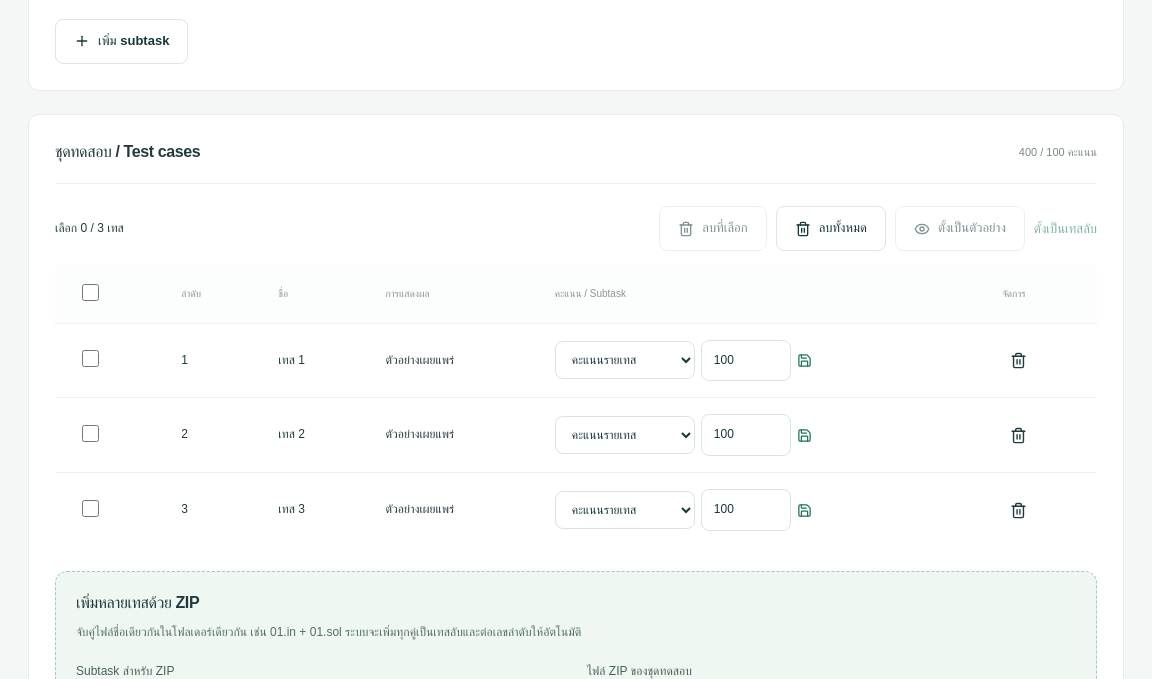
Test: restores the saved subtask and shows errors when autosaving fails
(page scrolled)
Select "กลุ่มหนึ่ง" in the dropdown named "Subtask ของ เทส 1": (625,360) left=555, top=341, right=695, bottom=379
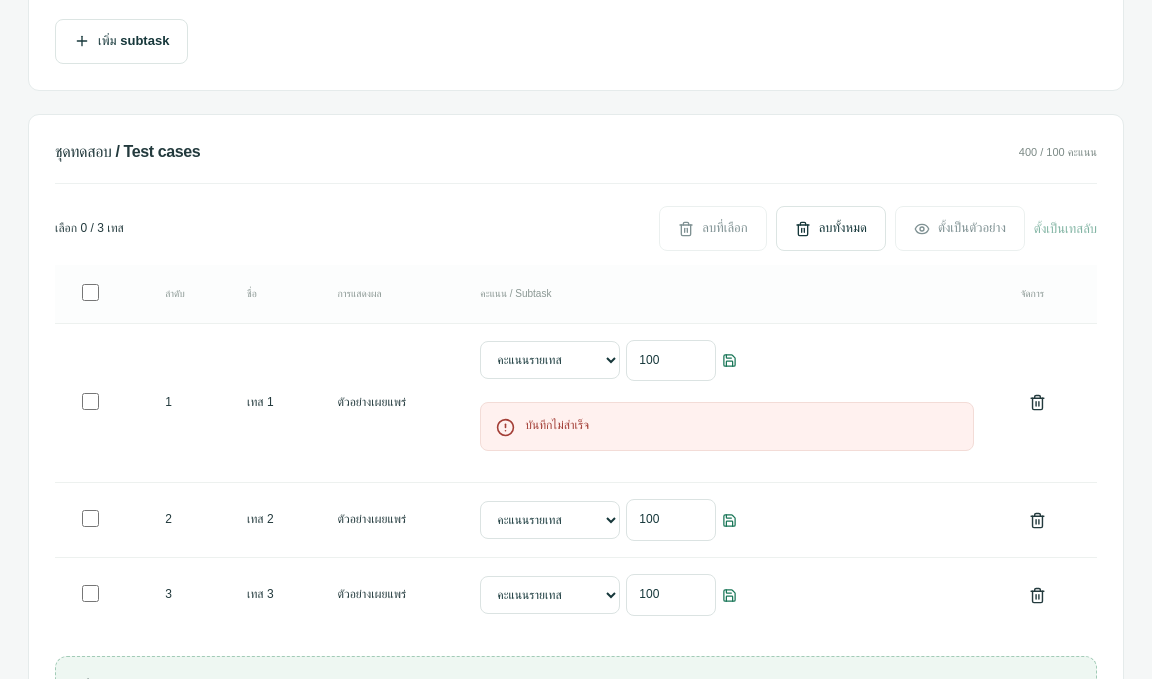
Check: the text "บันทึกไม่สำเร็จ" is shown, box left=525, top=418, right=589, bottom=432
